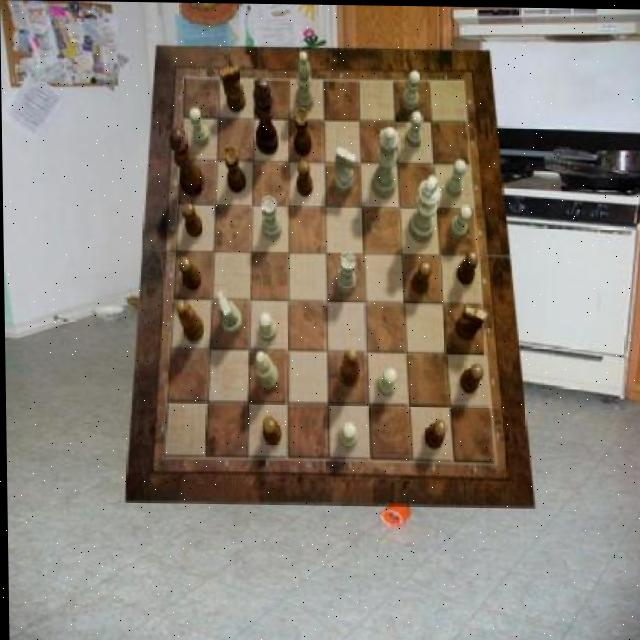bishop: (176, 299, 204, 342), (338, 347, 358, 386)
black-bishop: (252, 77, 277, 154)
black-king: (219, 63, 245, 112), (454, 304, 487, 339)
black-knight: (181, 202, 203, 238), (454, 249, 477, 283), (177, 256, 200, 290), (459, 362, 483, 394), (410, 260, 431, 294), (423, 419, 445, 448), (296, 159, 313, 195), (263, 417, 280, 444)
black-pawn: (168, 128, 204, 198)
black-queen: (222, 146, 245, 192), (293, 108, 311, 156)
black-rook: (295, 51, 314, 111), (254, 350, 277, 391)
white-bishop: (407, 174, 441, 242)
white-king: (216, 290, 241, 334), (333, 147, 356, 193)
white-knight: (448, 204, 472, 239), (187, 107, 208, 147), (400, 69, 420, 109), (445, 157, 465, 196), (405, 109, 423, 147), (377, 368, 397, 395), (258, 312, 276, 340), (336, 421, 356, 446)
white-pawn: (371, 126, 399, 198)
white-queen: (260, 195, 281, 239), (335, 252, 356, 293)
